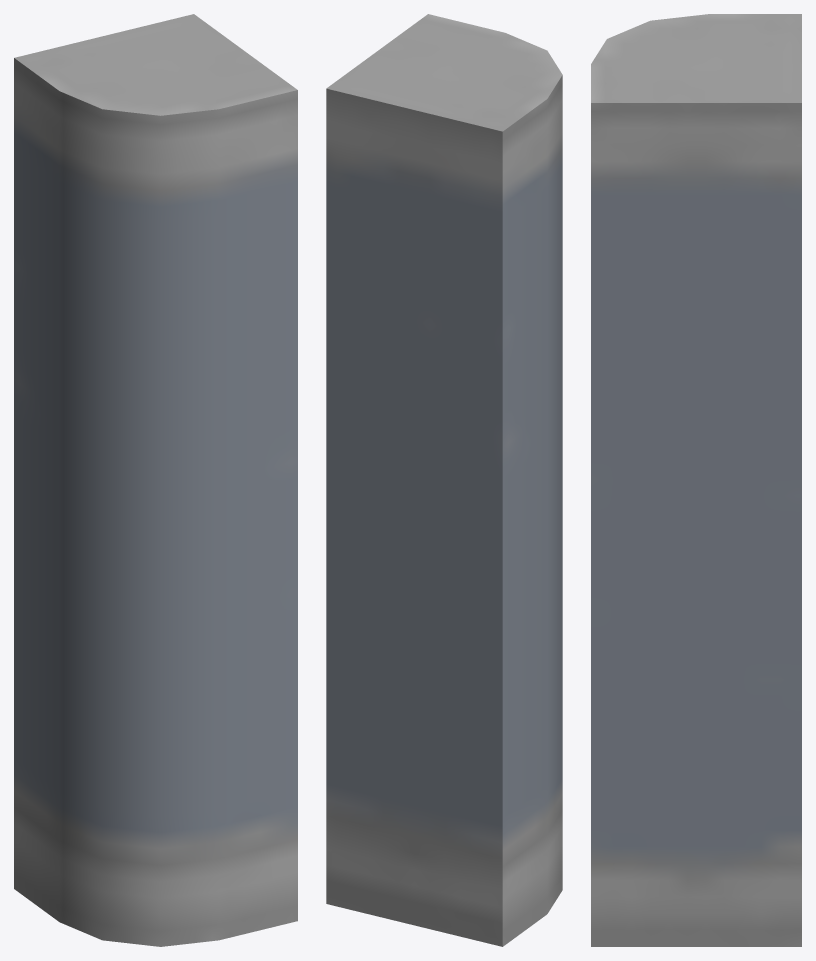
The model's file is HH_CableDuct_Angle_02.fbx.
3 views of the same model, side by side, from view 1: azimuth 30°, elevation 25°; view 2: azimuth 150°, elevation 25°; view 3: azimuth 270°, elevation 25° (orthographic). The views are drawn at different scales.
Parts seen in each view (by area): view 1: HH_CableDuct_Angle_02; view 2: HH_CableDuct_Angle_02; view 3: HH_CableDuct_Angle_02.
Boxes of the visible parts, left/top/right/bottom form: HH_CableDuct_Angle_02: left=14, top=14, right=297, bottom=946; HH_CableDuct_Angle_02: left=326, top=14, right=562, bottom=946; HH_CableDuct_Angle_02: left=591, top=14, right=801, bottom=946.
Bounding box in the file's own units: 2.38 × 10.51 × 2.38.
